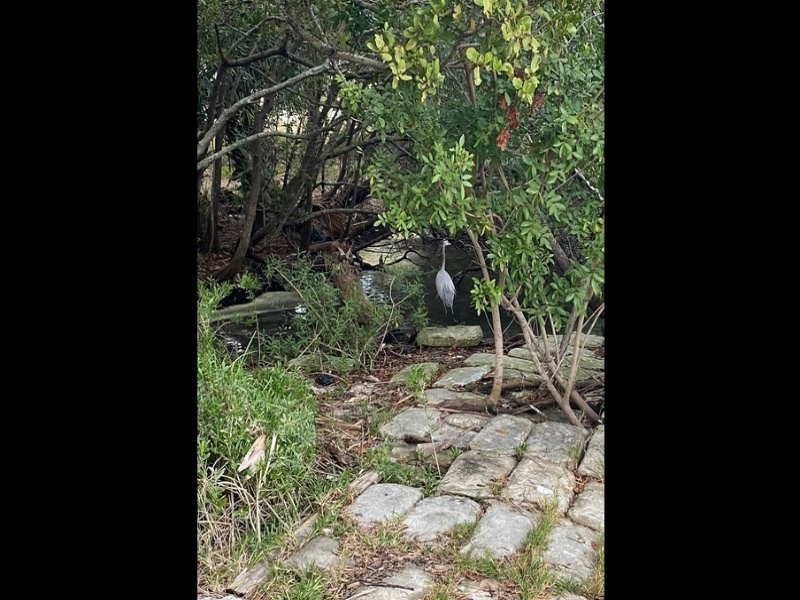heron: (430, 237, 466, 322)
